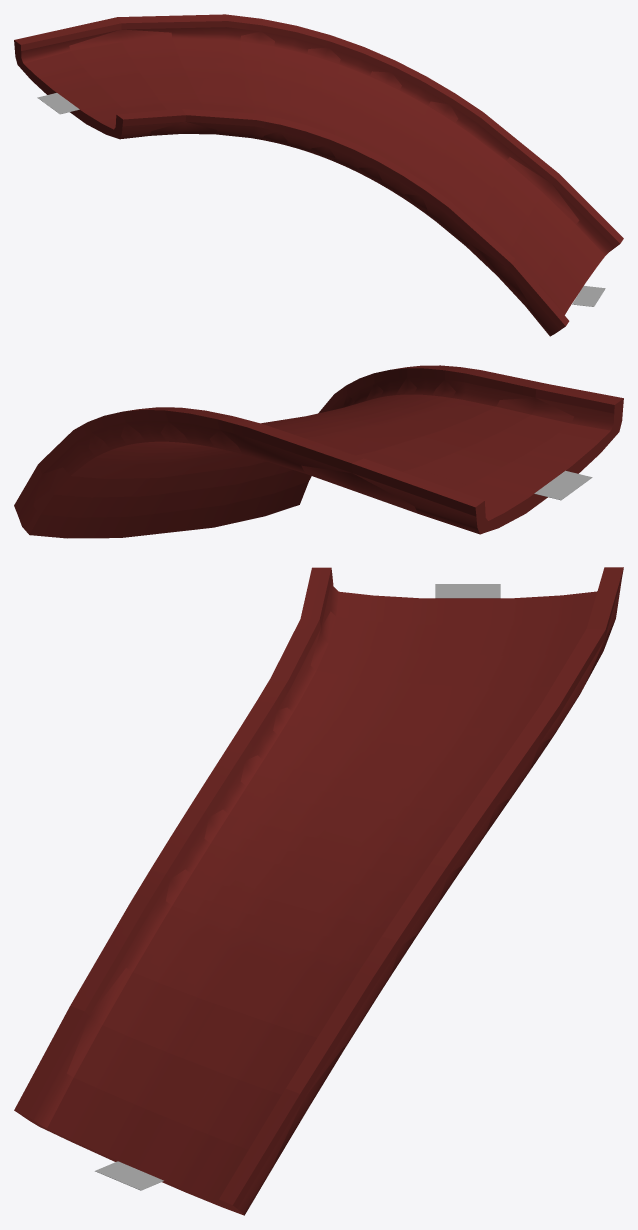
The model's file is FlatConnector45DownRight.fbx.
The picture shows the model from 3 angles, top to bottom: view 1: azimuth 30°, elevation 25°; view 2: azimuth 150°, elevation 25°; view 3: azimuth 270°, elevation 25°; orthographic projection. The views are drawn at different scales.
Visible parts, largest first — view 1: pPipe3, pasted__pCube3, pasted__pCube46; view 2: pPipe3, pasted__pCube3; view 3: pPipe3, pasted__pCube3, pasted__pCube46.
Boxes of the visible parts, bbox=[...] form: pPipe3: bbox=[14, 14, 623, 336]; pasted__pCube3: bbox=[37, 93, 79, 114]; pasted__pCube46: bbox=[572, 286, 605, 306]; pPipe3: bbox=[14, 365, 623, 538]; pasted__pCube3: bbox=[534, 470, 592, 500]; pPipe3: bbox=[14, 567, 623, 1215]; pasted__pCube3: bbox=[435, 584, 500, 598]; pasted__pCube46: bbox=[95, 1161, 163, 1190].
Size of the model in its own units: 24.96 by 11.55 by 18.65.
